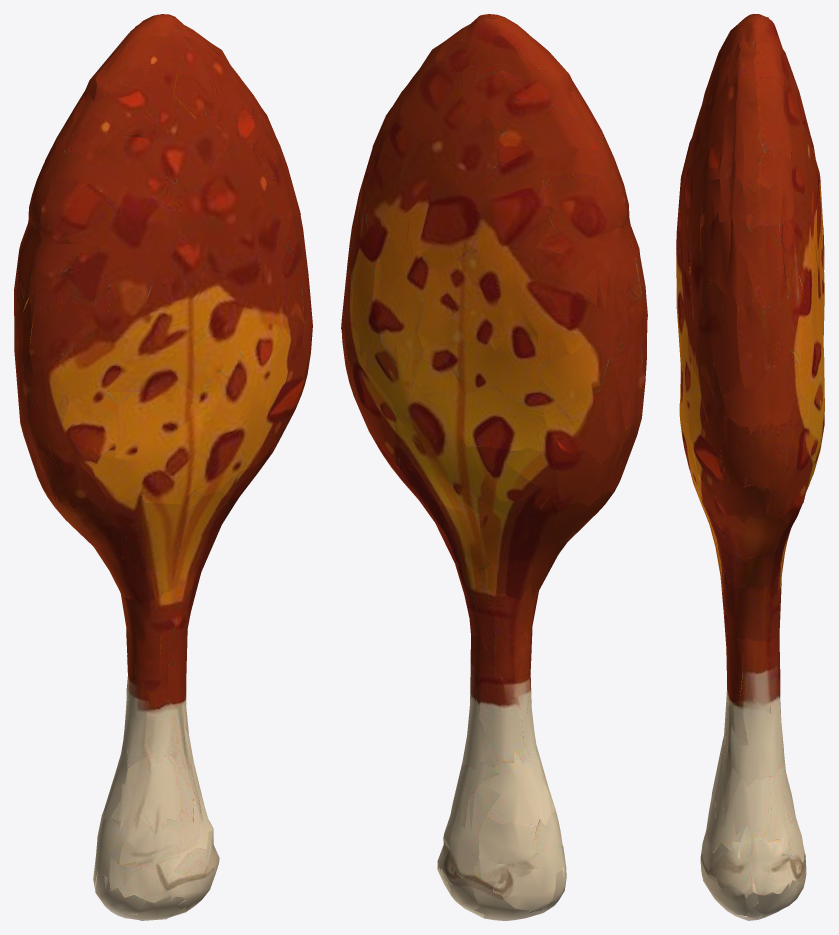
The model's file is drumstick.glb.
3 views of the same model, side by side, from view 1: azimuth 30°, elevation 25°; view 2: azimuth 150°, elevation 25°; view 3: azimuth 270°, elevation 25° (orthographic).
Parts seen in each view (by area): view 1: Mesh_0; view 2: Mesh_0; view 3: Mesh_0.
Part boxes in pixels (x1,y1,x2,y2): Mesh_0: (14,14,312,920); Mesh_0: (341,14,647,920); Mesh_0: (676,14,824,920).
Size of the model in its own units: 0.1862 by 0.55 by 0.0826.
1 material, 1 textured.
